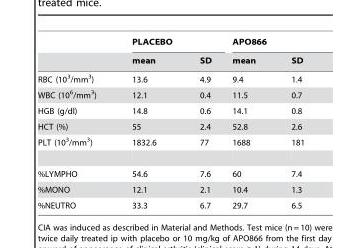table: (37, 37, 303, 209)
table column: (37, 37, 113, 209), (113, 37, 177, 209), (221, 37, 272, 209), (177, 37, 221, 209), (272, 37, 303, 209)
table column header: (37, 37, 303, 68)
table row: (37, 133, 303, 157), (37, 157, 303, 181), (37, 50, 303, 68), (37, 68, 303, 86), (37, 86, 303, 102), (37, 102, 303, 118), (37, 181, 303, 197), (37, 118, 303, 133), (37, 37, 303, 50), (37, 197, 303, 209)
table spanning cell: (113, 37, 221, 50), (221, 37, 303, 50)
